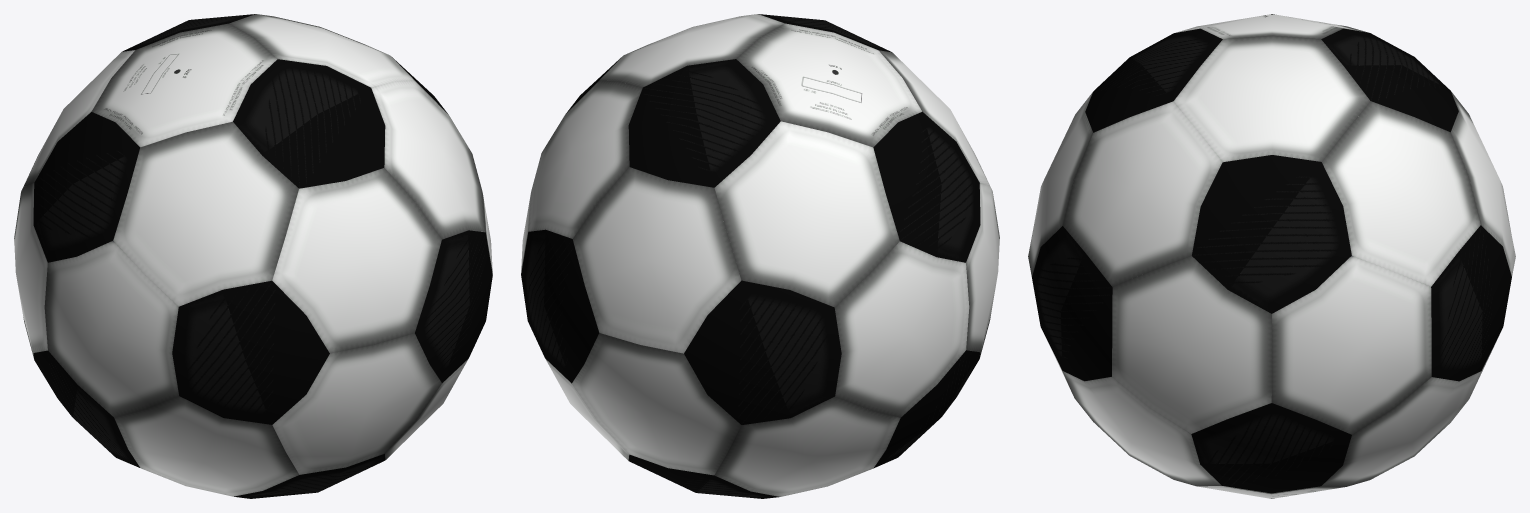
The model's file is football_ball.FBX.
3 renders of one model, left to right at view 1: azimuth 30°, elevation 25°; view 2: azimuth 150°, elevation 25°; view 3: azimuth 270°, elevation 25°, orthographic.
Visible parts, largest first — view 1: football_ball; view 2: football_ball; view 3: football_ball.
Part boxes in pixels (box(x1,y1,x2,y2)): football_ball: box(14, 14, 492, 498); football_ball: box(521, 14, 999, 498); football_ball: box(1028, 14, 1515, 498).
Size of the model in its own units: 23.18 by 23.2 by 23.22.
